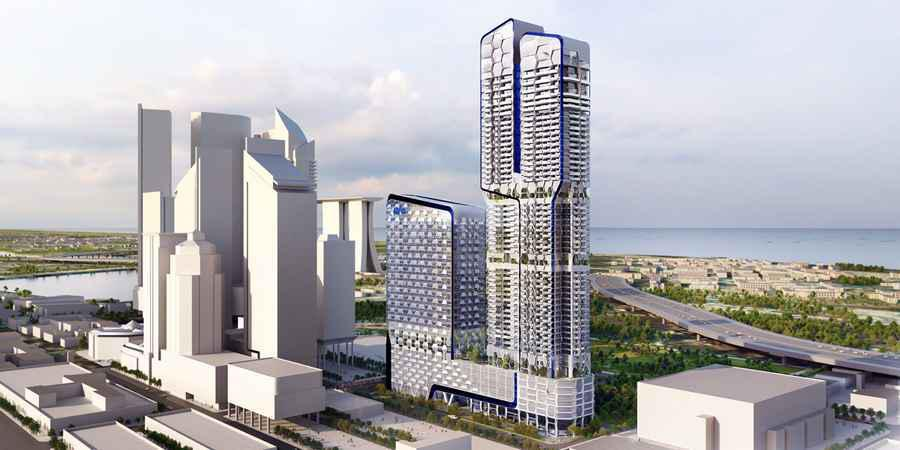affected: (477, 14, 586, 421)
